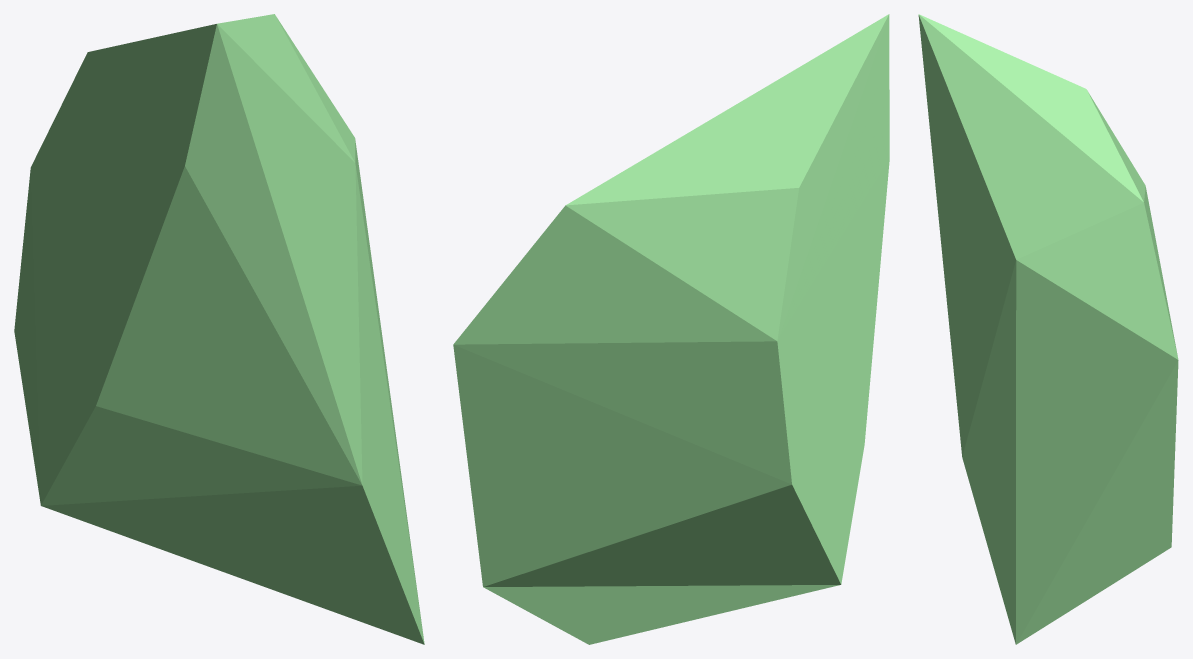
File: UMIRobot_UMIRobot_link_5_convex_coll_29.dae
3 renders of one model, left to right at view 1: azimuth 30°, elevation 25°; view 2: azimuth 150°, elevation 25°; view 3: azimuth 270°, elevation 25°, orthographic. The views are drawn at different scales.
Parts seen in each view (by area): view 1: node; view 2: node; view 3: node.
Part boxes in pixels (bbox=[...]): node: bbox=[14, 14, 424, 644]; node: bbox=[453, 14, 889, 644]; node: bbox=[918, 14, 1178, 644].
Size of the model in its own units: 0.00311 by 0.0058 by 0.00256.
